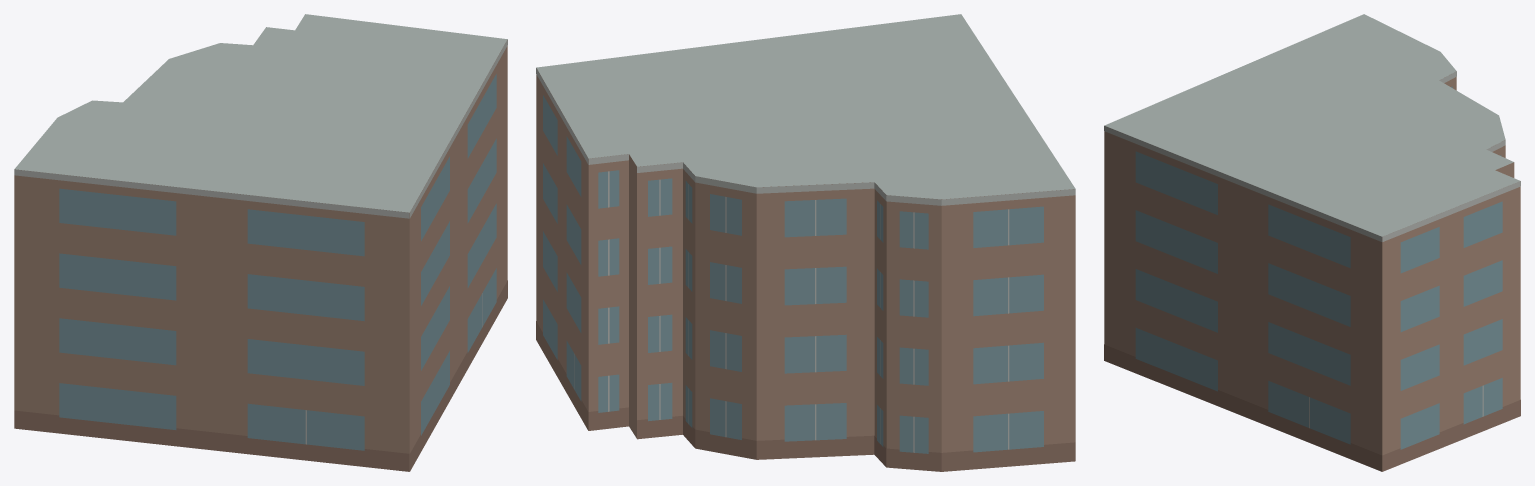
Rendered from survey-upis-32757413.glb.
The picture shows the model from 3 angles, left to right: view 1: azimuth 30°, elevation 25°; view 2: azimuth 150°, elevation 25°; view 3: azimuth 270°, elevation 25°; orthographic projection. The views are drawn at different scales.
Visible parts, largest first — view 1: survey-upis-32757413.tmp; view 2: survey-upis-32757413.tmp; view 3: survey-upis-32757413.tmp.
Boxes of the visible parts, x1=… form: survey-upis-32757413.tmp: x1=14, y1=14, x2=507, y2=471; survey-upis-32757413.tmp: x1=536, y1=14, x2=1075, y2=471; survey-upis-32757413.tmp: x1=1104, y1=14, x2=1520, y2=471.
Size of the model in its own units: 21.14 by 10.4 by 16.7.
